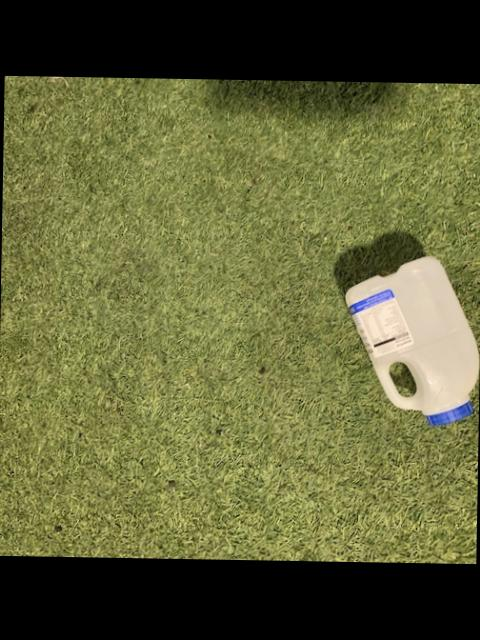plastic: (346, 256, 478, 424)
